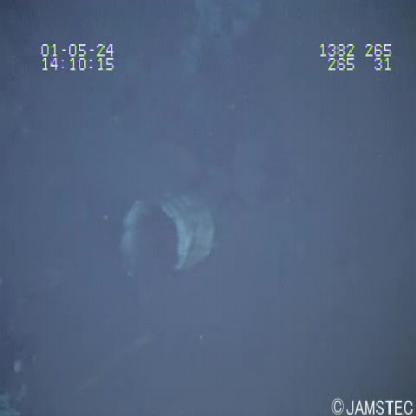Rác: (117, 190, 224, 288)
